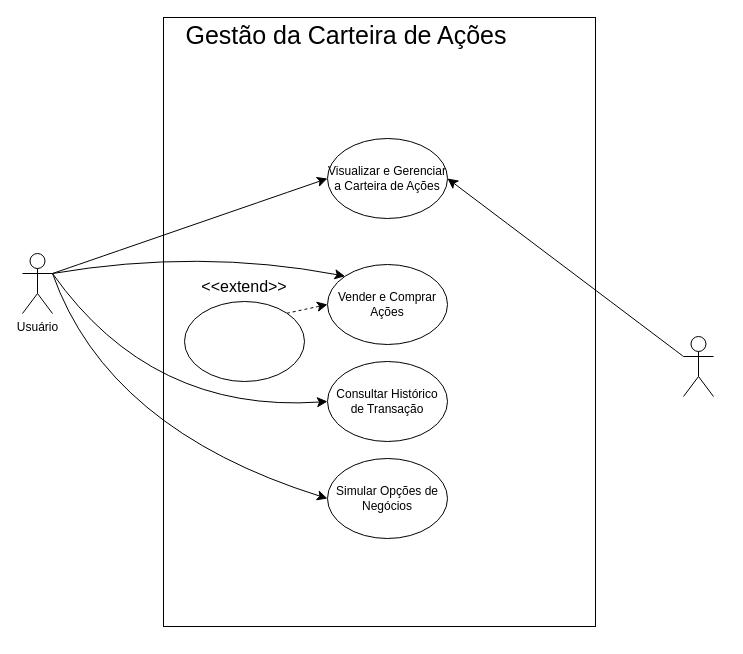
Some shapes in this 743 by 654 pixel diagram are drawn without their labels. The shapes that lost their labels are listed below. From the top down, each one's centre as x and y in pixels, then its label:
At (x=244, y=341): "Configurar Alertas de Cotações".
At (x=698, y=366): "API da B3".
